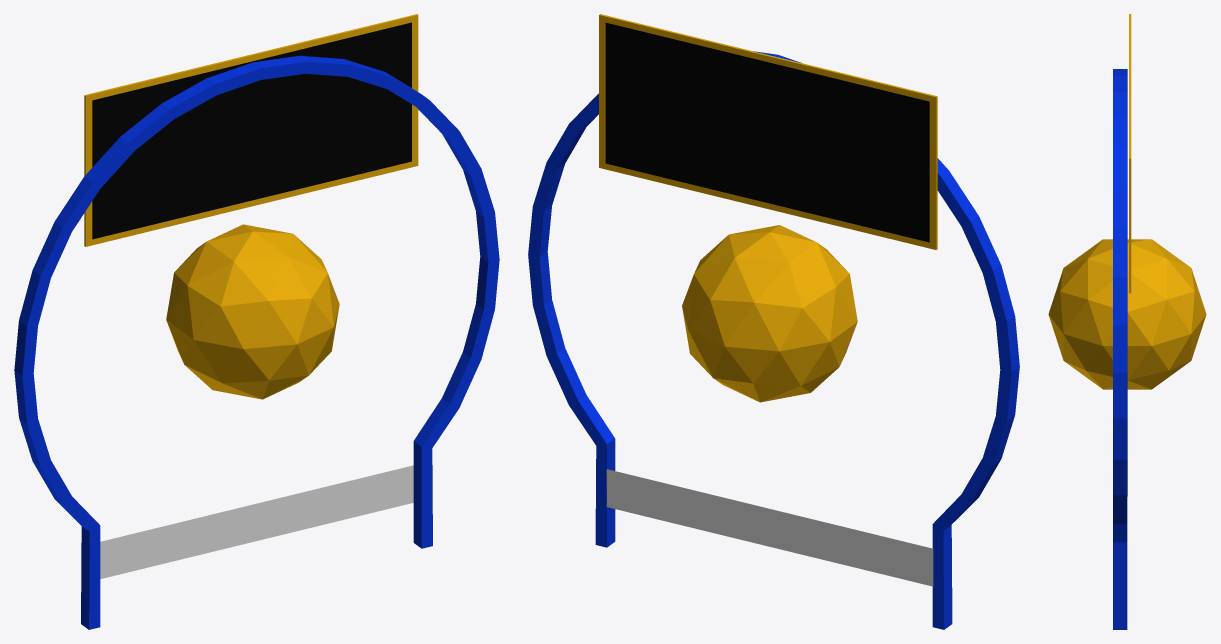
The model's file is goalpost.glb.
3 views of the same model, side by side, from view 1: azimuth 30°, elevation 25°; view 2: azimuth 150°, elevation 25°; view 3: azimuth 270°, elevation 25° (orthographic). The views are drawn at different scales.
Parts seen in each view (by area): view 1: Scoreboard, Frame, Sphere Thing, Goal Indicator; view 2: Scoreboard, Sphere Thing, Frame, Goal Indicator; view 3: Sphere Thing, Frame, Scoreboard.
Boxes of the visible parts, bbox=[...] form: Scoreboard: bbox=[84, 14, 418, 246]; Frame: bbox=[14, 55, 499, 629]; Sphere Thing: bbox=[166, 224, 339, 399]; Goal Indicator: bbox=[100, 465, 413, 578]; Scoreboard: bbox=[599, 14, 937, 249]; Sphere Thing: bbox=[682, 225, 857, 402]; Frame: bbox=[528, 51, 1019, 629]; Goal Indicator: bbox=[606, 469, 933, 586]; Sphere Thing: bbox=[1048, 239, 1206, 389]; Frame: bbox=[1113, 69, 1127, 629]; Scoreboard: bbox=[1129, 14, 1131, 293].
Size of the model in its own units: 2.1 by 2.21 by 0.6757.
